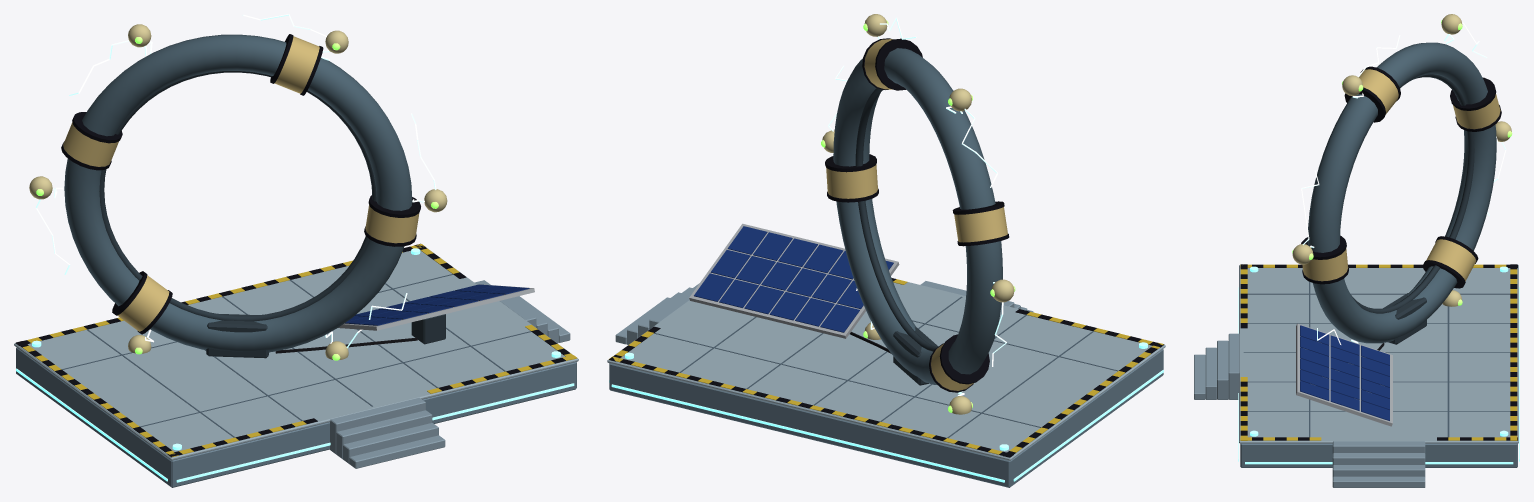
The model's file is tf-memelab.glb.
3 views of the same model, side by side, from view 1: azimuth 30°, elevation 25°; view 2: azimuth 150°, elevation 25°; view 3: azimuth 270°, elevation 25° (orthographic). The views are drawn at different scales.
Visible parts, largest first — view 1: tf-memelab; view 2: tf-memelab; view 3: tf-memelab.
Boxes of the visible parts, box(x1,y1,x2,y2) form: tf-memelab: box(14, 14, 578, 487); tf-memelab: box(607, 14, 1165, 487); tf-memelab: box(1194, 14, 1519, 487).
Bounding box in the file's own units: 20.09 × 15.72 × 14.09.
